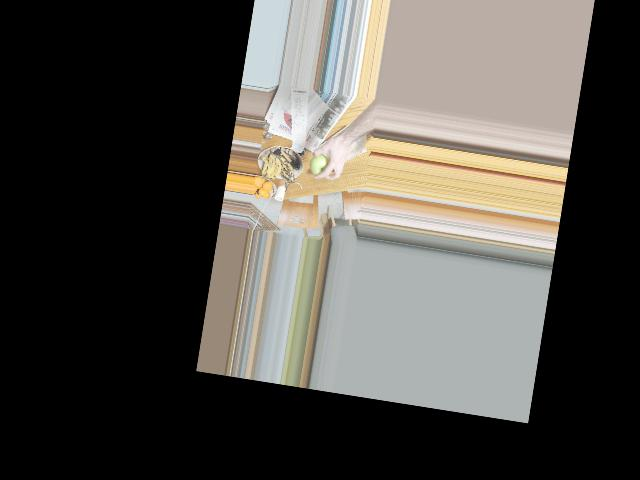apple: (308, 148, 335, 181)
